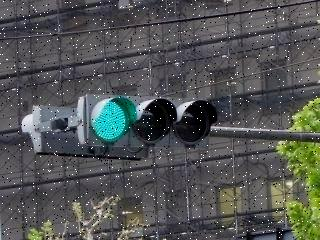cars: (85, 96, 217, 149)
